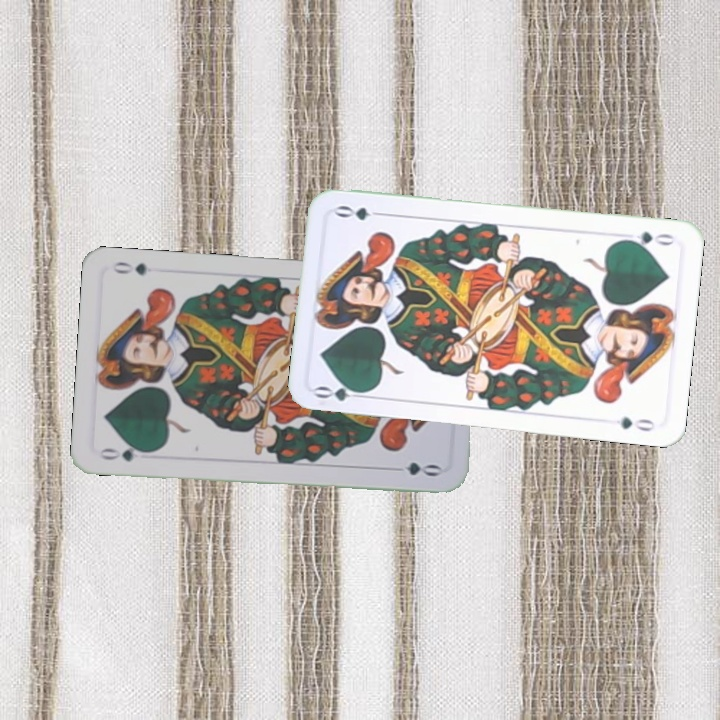GO: (312, 379, 371, 404), (95, 441, 154, 464), (619, 227, 677, 250)
